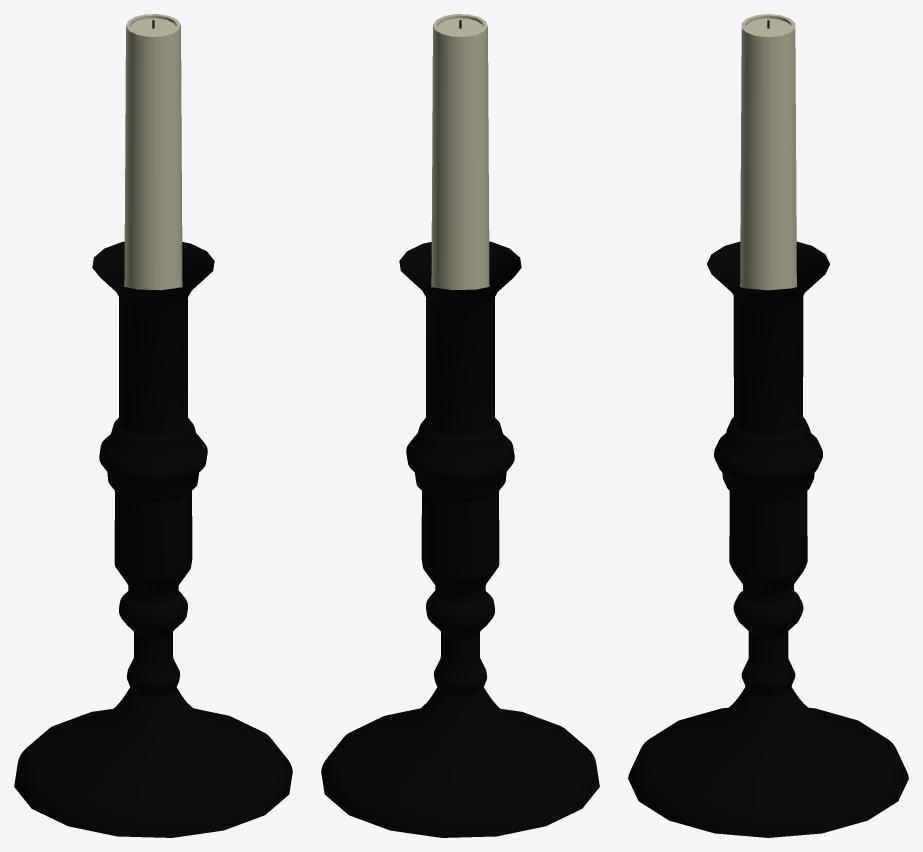
The model's file is CandleLight_03.fbx.
3 renders of one model, left to right at view 1: azimuth 30°, elevation 25°; view 2: azimuth 150°, elevation 25°; view 3: azimuth 270°, elevation 25°, orthographic.
Visible parts, largest first — view 1: Line001; view 2: Line001; view 3: Line001.
Boxes of the visible parts, box(x1,y1,x2,y2) form: Line001: box(14, 14, 292, 837); Line001: box(321, 14, 599, 837); Line001: box(628, 14, 908, 837).
Size of the model in its own units: 15.25 by 45.42 by 15.25.
